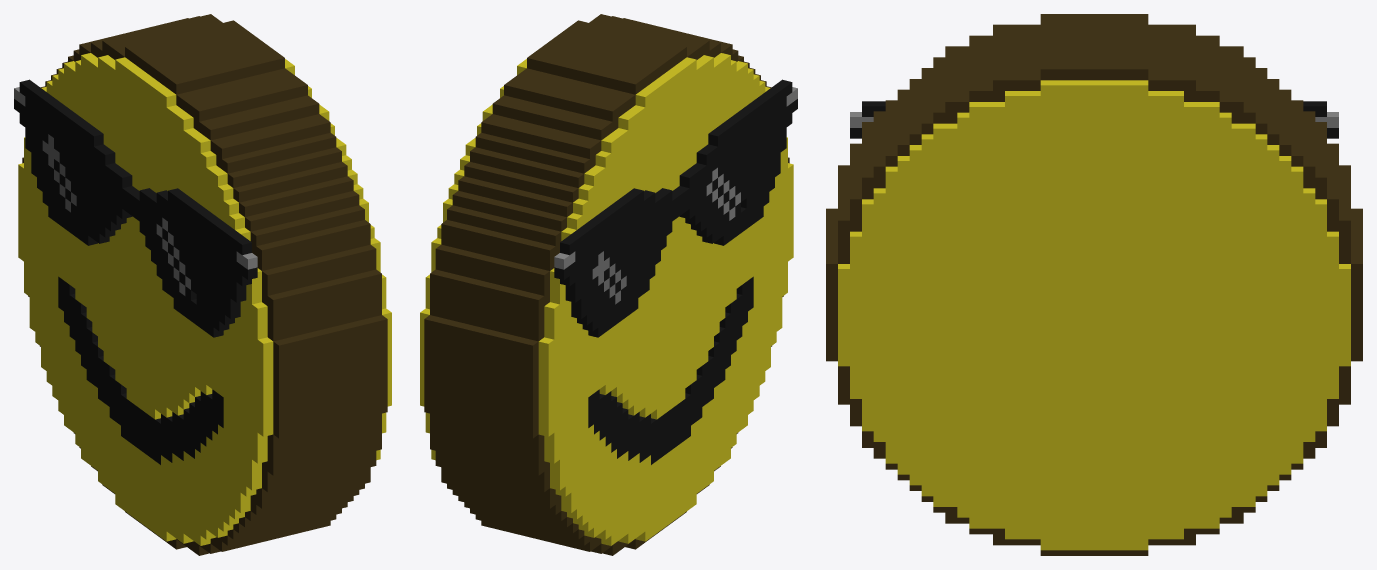
File: Sunglasses.obj
The picture shows the model from 3 angles, left to right: view 1: azimuth 30°, elevation 25°; view 2: azimuth 150°, elevation 25°; view 3: azimuth 270°, elevation 25°; orthographic projection. The views are drawn at different scales.
Bounding box in the file's own units: 14 × 45 × 45.
Materials: 1 (1 with a texture image).
